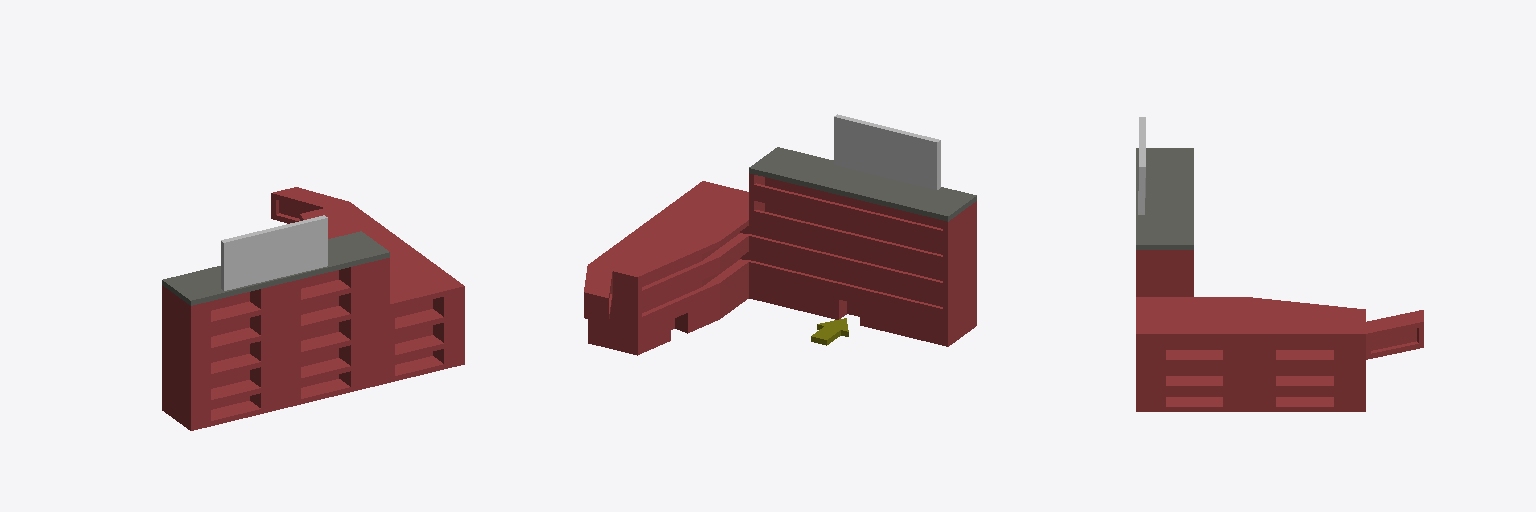
3 renders of one model, left to right at view 1: azimuth 30°, elevation 25°; view 2: azimuth 150°, elevation 25°; view 3: azimuth 270°, elevation 25°, orthographic.
Parts seen in each view (by area): view 1: lll3.002, Cube.005_Cube.001; view 2: lll3.002, Cube.005_Cube.001; view 3: lll3.002, Cube.005_Cube.001.
Boxes of the visible parts, box(x1,y1,x2,y2) form: lll3.002: box(162, 187, 464, 430); Cube.005_Cube.001: box(221, 215, 327, 290); lll3.002: box(584, 147, 976, 355); Cube.005_Cube.001: box(834, 114, 940, 189); lll3.002: box(1136, 148, 1423, 411); Cube.005_Cube.001: box(1138, 117, 1145, 214).
Size of the model in its own units: 55 by 34.37 by 49.99.